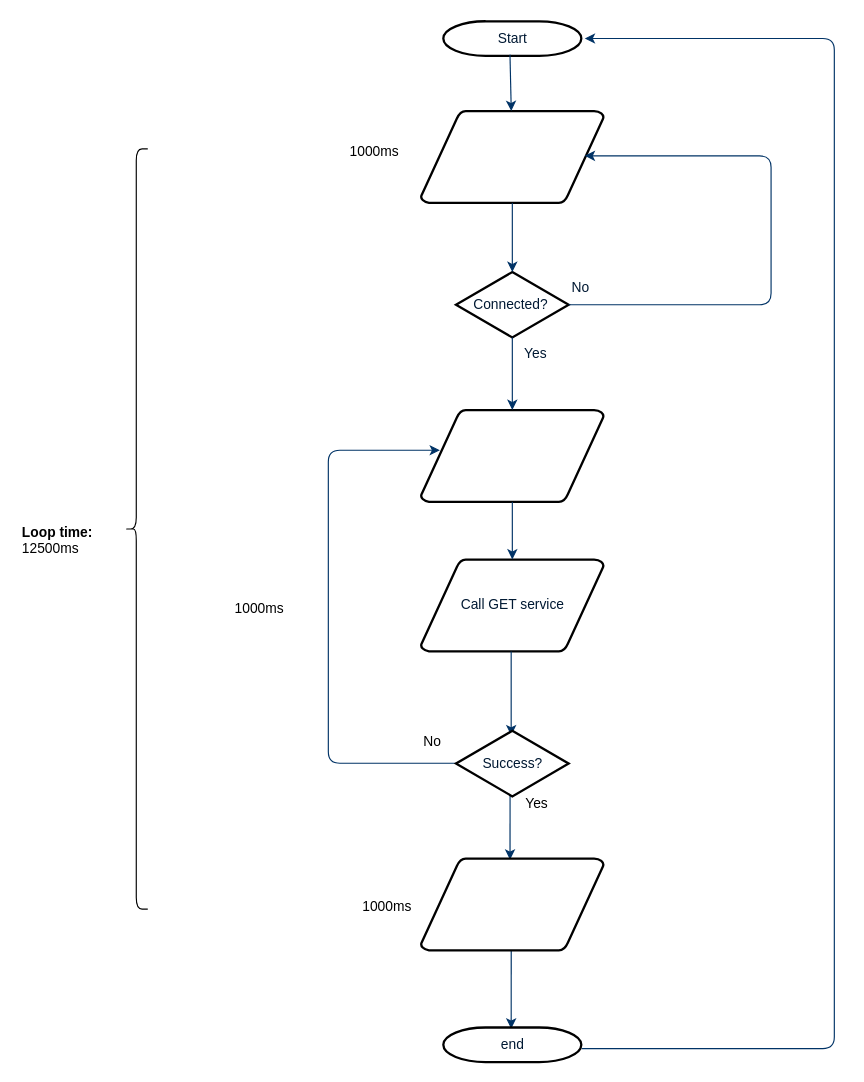
Some shapes in this 864 by 1082 pixel diagram are drawn without their labels. The centre of each missing label's shape, as x and y in pixels:
"Close connection" belongs at (511,904).
"Setup send-data" belongs at (511,455).
"Start a TCP connection to the ThingSpeak" belongs at (511,156).
